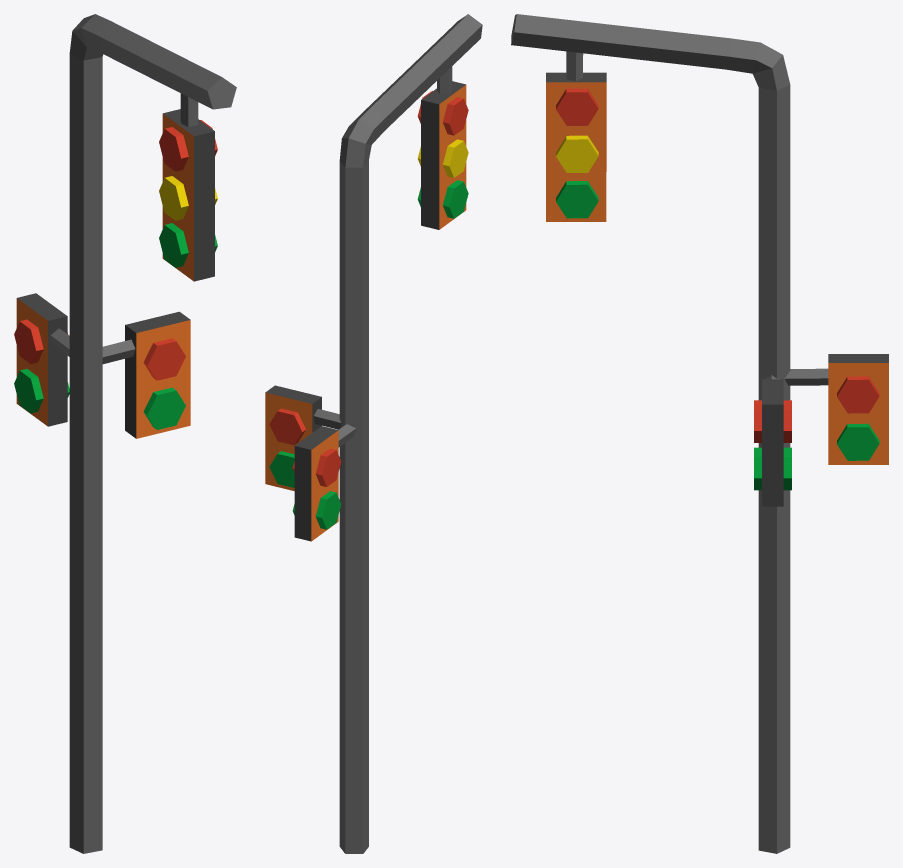
The model's file is Traffic_Light_1.fbx.
3 renders of one model, left to right at view 1: azimuth 30°, elevation 25°; view 2: azimuth 150°, elevation 25°; view 3: azimuth 270°, elevation 25°, orthographic. The views are drawn at different scales.
Visible parts, largest first — view 1: Traffic_Light_1; view 2: Traffic_Light_1; view 3: Traffic_Light_1.
Part boxes in pixels (x1,y1,x2,y2): Traffic_Light_1: (14,14,236,853); Traffic_Light_1: (265,14,482,853); Traffic_Light_1: (511,14,888,853).
Size of the model in its own units: 0.3437 by 2.44 by 1.
